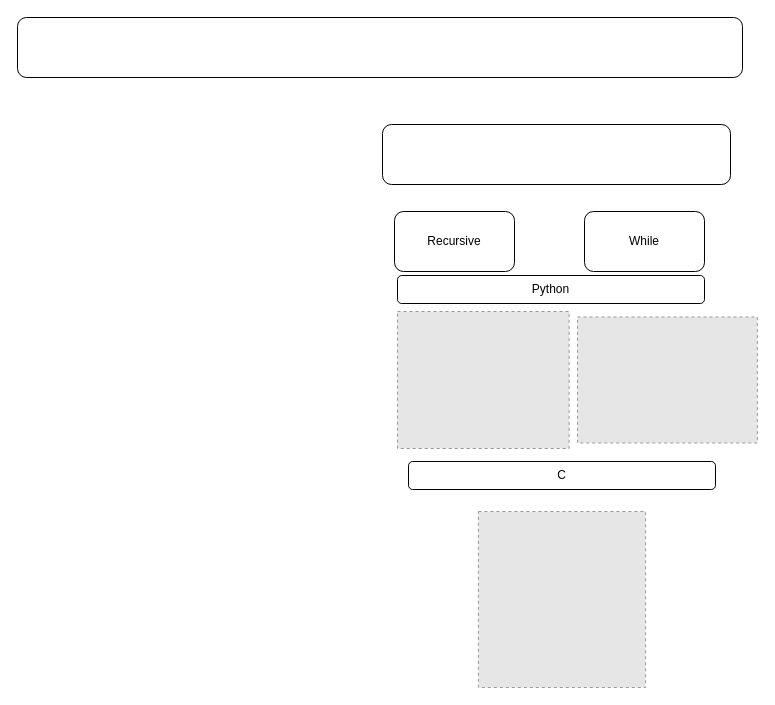
This 775x705 diagram has some shape labels left out. Grey dashed boxes stand in for pictures. The shapes that lost their labels are listed below. From the top down, each one's centre as x and y in pixels, then its label:
At [379,47]: "題目: 是否是合格的BST".
At [556,154]: "只要符合Inoder的由小到大，則一定符合這個BST".
